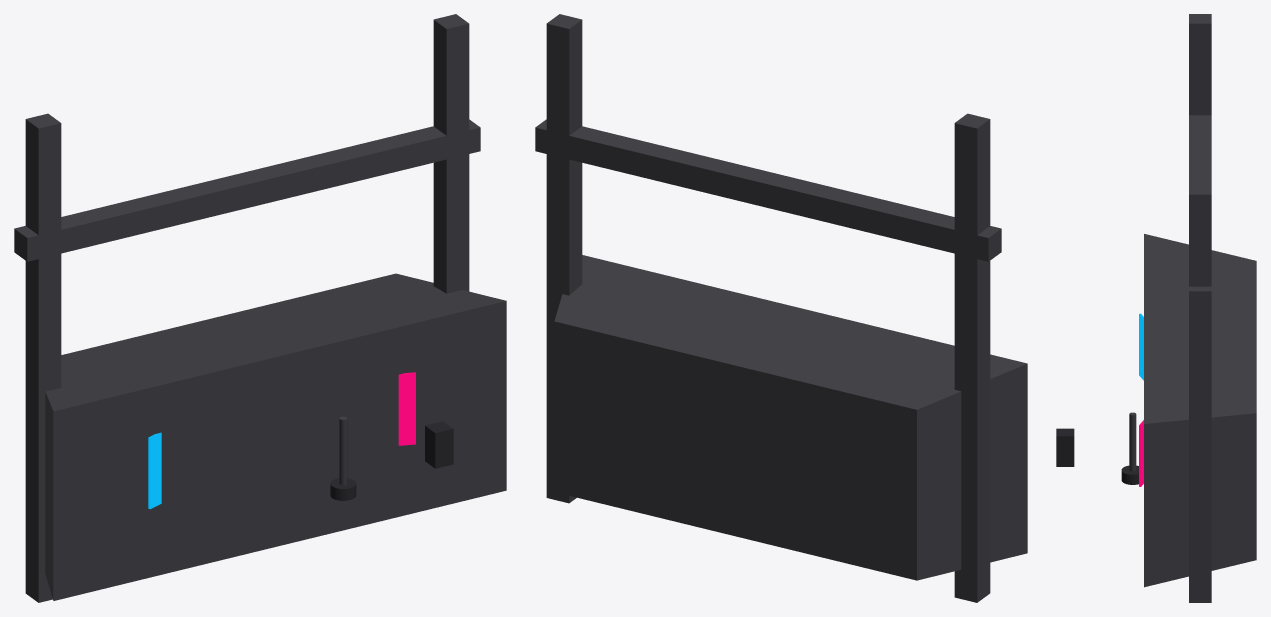
The model's file is cockpit_high_end.glb.
3 renders of one model, left to right at view 1: azimuth 30°, elevation 25°; view 2: azimuth 150°, elevation 25°; view 3: azimuth 270°, elevation 25°, orthographic. The views are drawn at different scales.
Parts seen in each view (by area): view 1: Dashboard, Top_Bar, Pillar_L, Pillar_R, Screen_Right, Joystick_Handle, Screen_Left; view 2: Dashboard, Top_Bar, Pillar_L, Pillar_R; view 3: Dashboard, Pillar_R, Pillar_L, Top_Bar, Joystick_Handle, Joystick_Stick, Screen_Right, Screen_Left, Joystick_Base.
Boxes of the visible parts, box(x1,y1,x2,y2) form: Dashboard: box(45, 273, 506, 600); Top_Bar: box(14, 119, 480, 261); Pillar_L: box(25, 113, 61, 602); Pillar_R: box(433, 14, 469, 293); Screen_Right: box(398, 372, 415, 445); Joystick_Handle: box(425, 421, 453, 468); Screen_Left: box(148, 432, 161, 509); Dashboard: box(554, 255, 1027, 580); Top_Bar: box(535, 119, 1001, 261); Pillar_L: box(954, 113, 990, 602); Pillar_R: box(546, 14, 582, 503); Dashboard: box(1144, 234, 1256, 587); Pillar_R: box(1189, 185, 1211, 602); Pillar_L: box(1189, 14, 1211, 115); Top_Bar: box(1189, 115, 1211, 311); Joystick_Handle: box(1056, 428, 1074, 466); Joystick_Stick: box(1129, 412, 1136, 471); Screen_Right: box(1139, 420, 1143, 486); Screen_Left: box(1139, 313, 1143, 380); Joystick_Base: box(1121, 465, 1138, 484).
Size of the model in its own units: 4 by 4 by 1.78.
